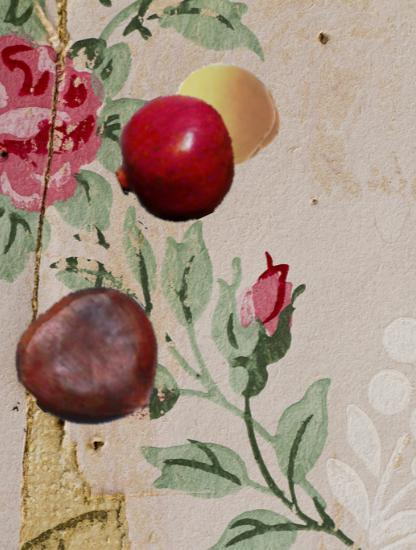Chestnut: (21, 287, 167, 433)
Peach: (171, 60, 280, 169)
Pomegranate: (110, 96, 239, 225)
